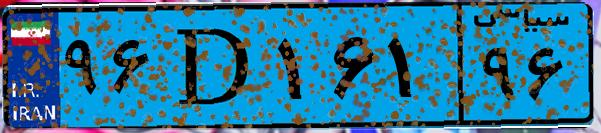1: (270, 28, 330, 110), (385, 28, 445, 110)
6: (330, 28, 385, 110), (525, 38, 570, 115), (110, 28, 158, 98)
9: (57, 26, 110, 100), (475, 38, 525, 113)
D: (158, 12, 270, 120)
